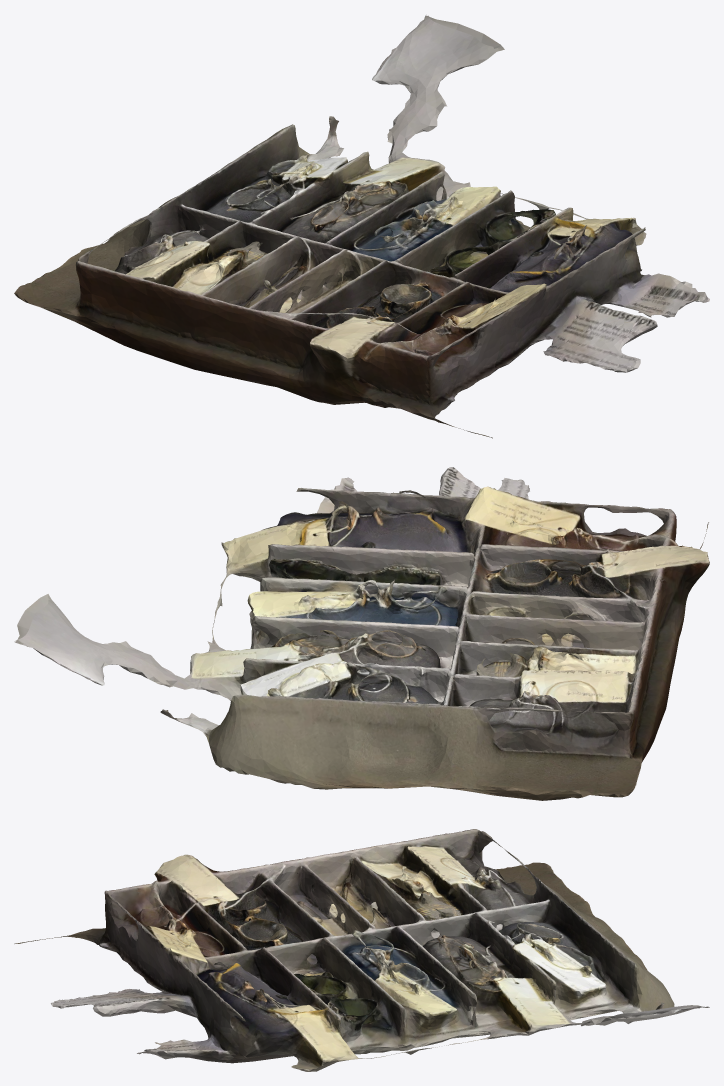
Rendered from scan04.glb.
The picture shows the model from 3 angles, top to bottom: view 1: azimuth 30°, elevation 25°; view 2: azimuth 150°, elevation 25°; view 3: azimuth 270°, elevation 25°; orthographic projection. The views are drawn at different scales.
Bounding box in the file's own units: 1.65 × 0.3161 × 2.
Materials: 1 (1 with a texture image).
